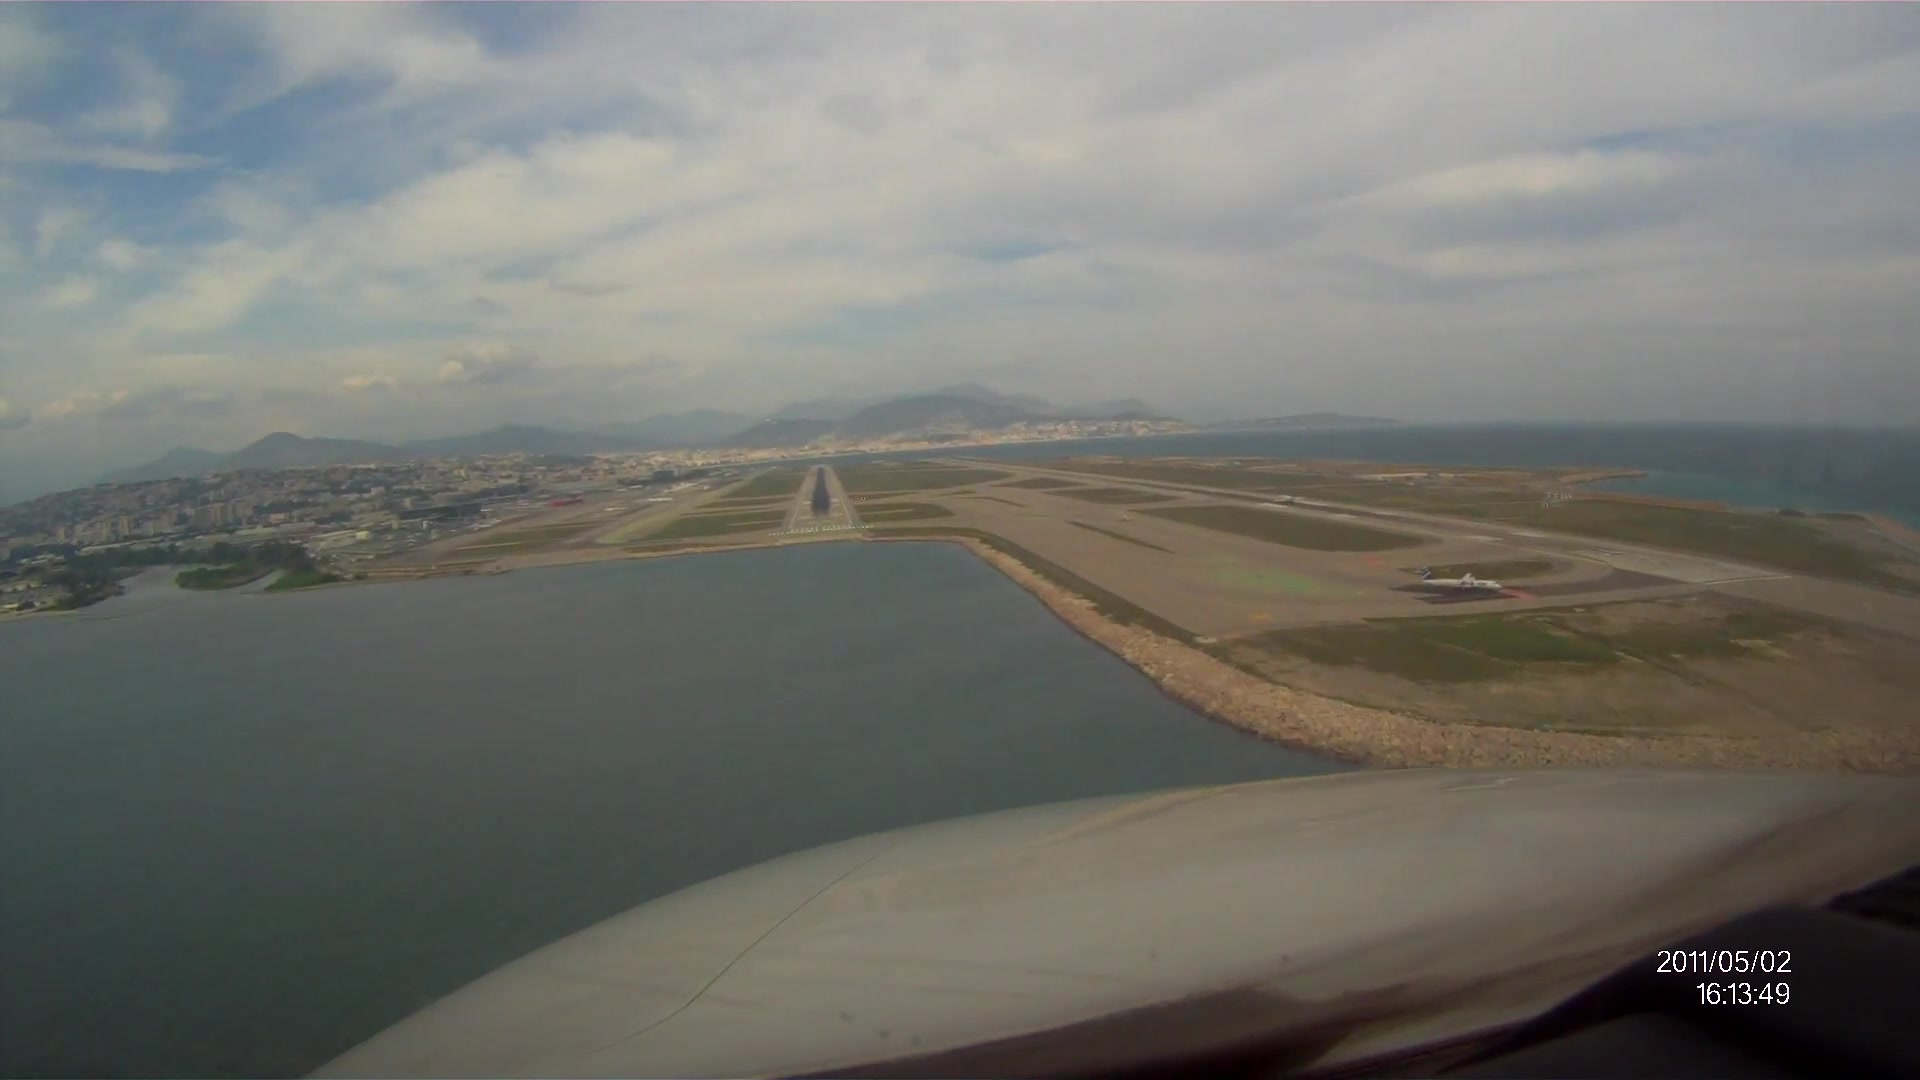entrance: (791, 522, 849, 534)
runway: (775, 465, 860, 546)
